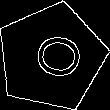O_W: (21, 30, 81, 83)
